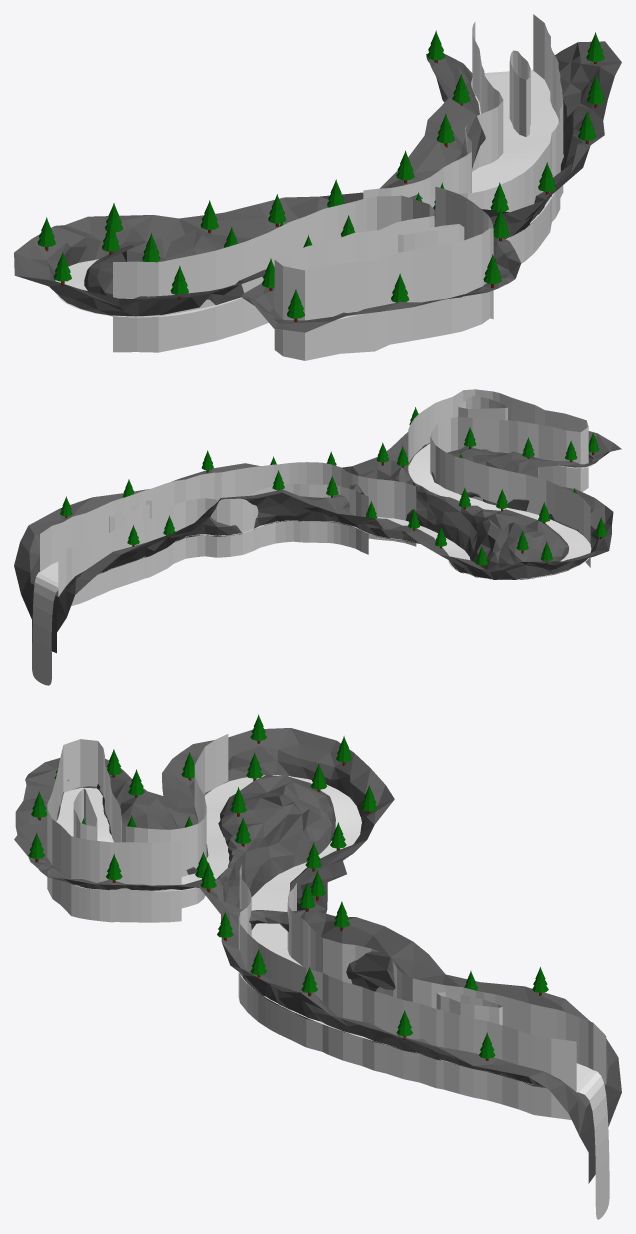
The model's file is Water.fbx.
The picture shows the model from 3 angles, top to bottom: view 1: azimuth 30°, elevation 25°; view 2: azimuth 150°, elevation 25°; view 3: azimuth 270°, elevation 25°; orthographic projection. The views are drawn at different scales.
Visible parts, largest first — view 1: Land, ColMesh3, ColMesh1, Trees, ColMesh1.001, Water, ColMesh3.001, ColMesh3.002, ColMesh.011, ColMEsh, ColMesh.010, ColMesh4.001 (+9 smaller); view 2: Land, ColMesh1, Water, Trees, ColMesh.004, ColMesh, ColMesh.005, ColMesh.002, ColMesh.006, ColMesh.010, ColMesh.003, ColMesh1.001 (+14 smaller); view 3: Land, Water, Trees, ColMesh.008, ColMesh.009, ColMesh.007, ColMesh4.001, ColMesh1, ColMesh.010, ColMesh, ColMesh4.002, ColMesh4.003 (+11 smaller).
Part boxes in pixels (bbox=[...]): Land: bbox=[14, 41, 621, 332]; ColMesh3: bbox=[305, 241, 462, 360]; ColMesh1: bbox=[216, 195, 434, 340]; Trees: bbox=[37, 30, 605, 321]; ColMesh1.001: bbox=[113, 250, 216, 352]; Water: bbox=[55, 69, 563, 319]; ColMesh3.001: bbox=[462, 228, 493, 331]; ColMesh3.002: bbox=[274, 260, 304, 360]; ColMesh.011: bbox=[511, 160, 537, 263]; ColMEsh: bbox=[509, 50, 530, 136]; ColMesh.010: bbox=[538, 120, 560, 248]; ColMesh4.001: bbox=[435, 186, 473, 240]; Land: bbox=[14, 431, 621, 653]; ColMesh1: bbox=[430, 416, 580, 514]; Water: bbox=[32, 443, 593, 685]; Trees: bbox=[60, 407, 607, 567]; ColMesh.004: bbox=[205, 490, 260, 557]; ColMesh: bbox=[58, 532, 111, 605]; ColMesh.005: bbox=[157, 498, 205, 572]; ColMesh.002: bbox=[315, 484, 368, 554]; ColMesh.006: bbox=[111, 515, 157, 589]; ColMesh.010: bbox=[200, 465, 264, 499]; ColMesh.003: bbox=[260, 483, 315, 547]; ColMesh1.001: bbox=[546, 480, 590, 567]; Land: bbox=[14, 728, 621, 1183]; Water: bbox=[56, 775, 609, 1219]; Trees: bbox=[28, 714, 548, 1060]; ColMesh.008: bbox=[419, 1003, 502, 1104]; ColMesh.009: bbox=[343, 981, 419, 1082]; ColMesh.007: bbox=[502, 1025, 576, 1119]; ColMesh4.001: bbox=[130, 841, 181, 922]; ColMesh1: bbox=[98, 741, 206, 908]; ColMesh.010: bbox=[279, 955, 342, 1060]; ColMesh: bbox=[530, 1004, 606, 1083]; ColMesh4.002: bbox=[71, 836, 99, 920]; ColMesh4.003: bbox=[99, 841, 129, 922].
Size of what is drawn, in the model's own units: 21129 by 8111 by 17349.
